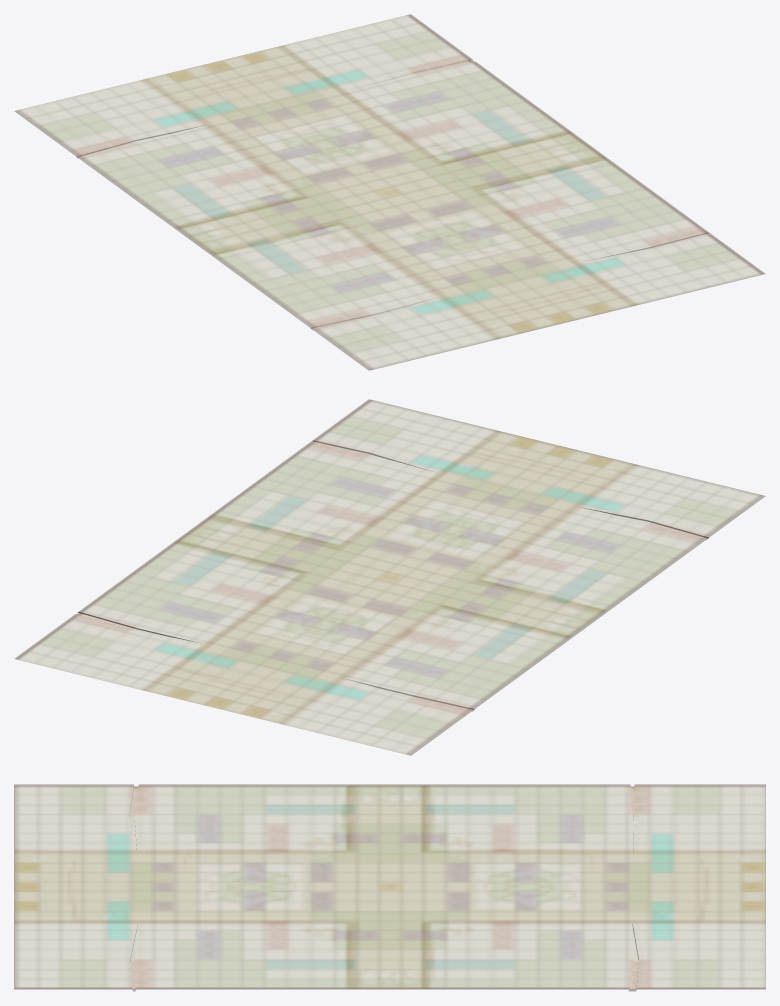
File: Map_assets_positions_reference.fbx
The picture shows the model from 3 angles, top to bottom: view 1: azimuth 30°, elevation 25°; view 2: azimuth 150°, elevation 25°; view 3: azimuth 270°, elevation 25°; orthographic projection. The views are drawn at different scales.
Parts seen in each view (by area): view 1: Layout; view 2: Layout; view 3: Layout.
Part boxes in pixels (x1,y1,x2,y2): Layout: (14, 14, 765, 370); Layout: (14, 399, 765, 755); Layout: (14, 784, 765, 991).
Size of the model in its own units: 722 by 2.39 by 1116.
